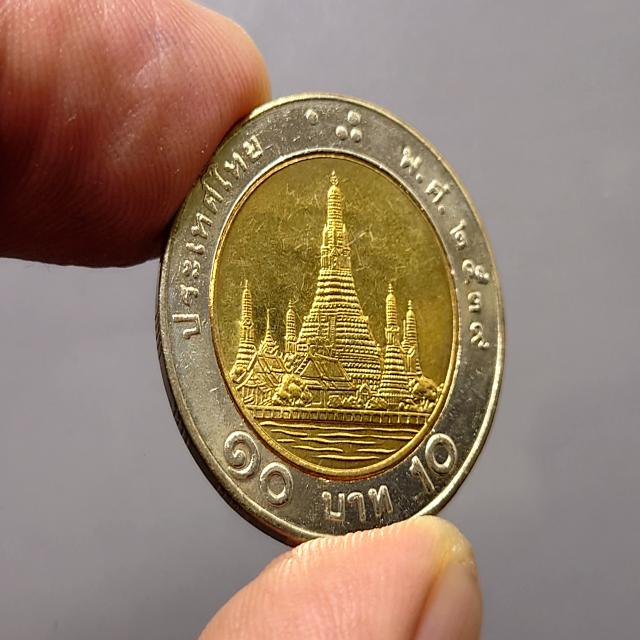10 Bath: (154, 90, 508, 565)
